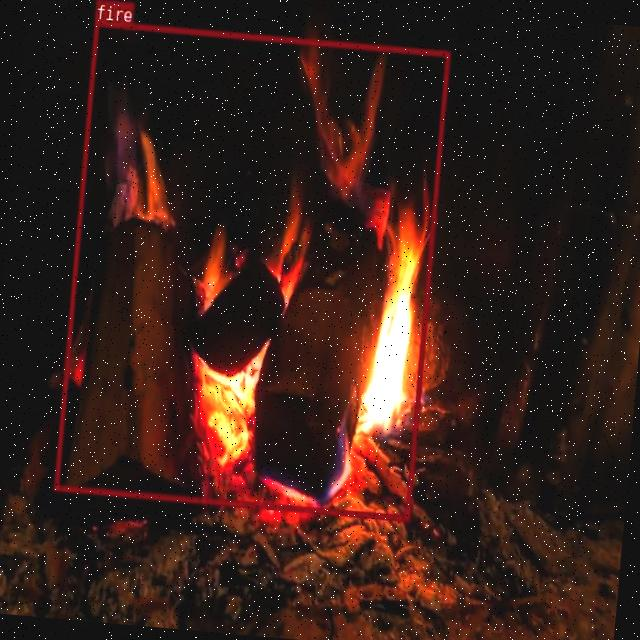fire: (53, 20, 449, 520)
